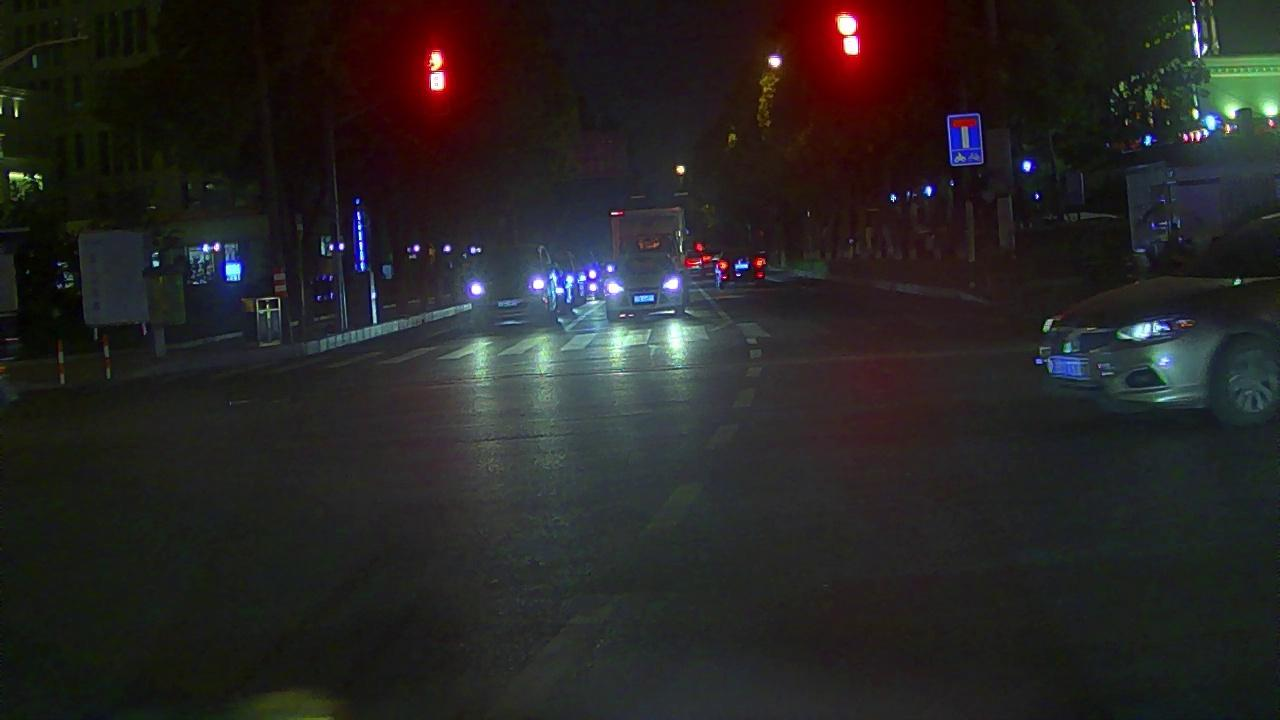traffic_light: (832, 6, 866, 59), (423, 46, 450, 95)
